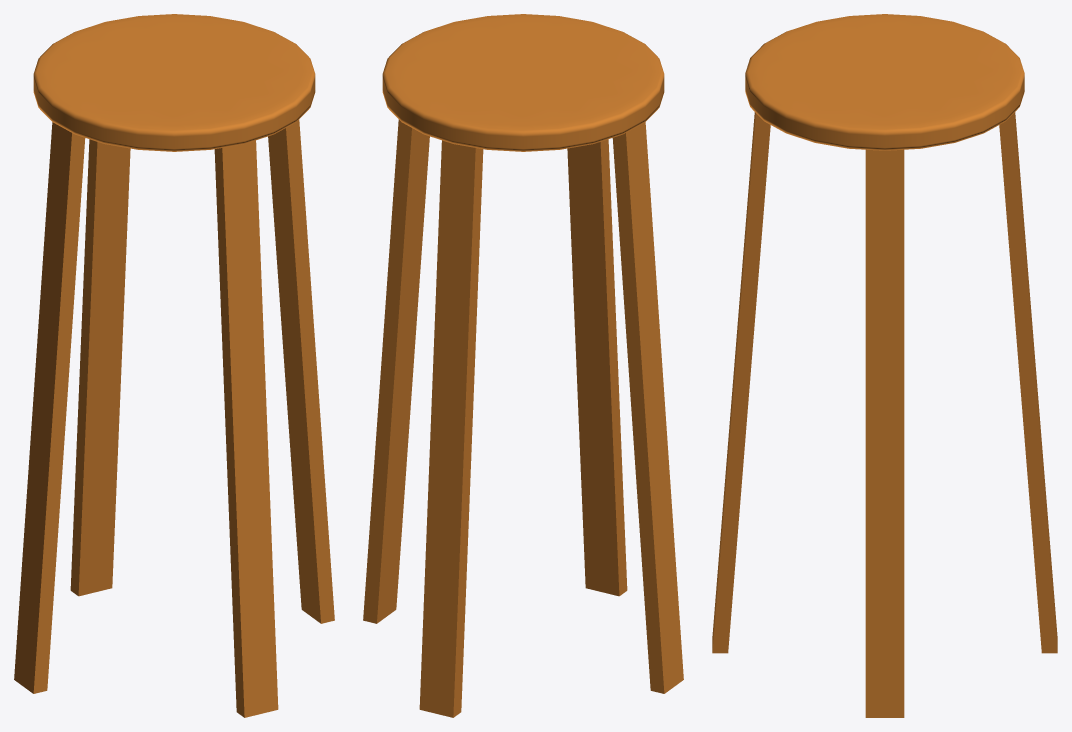
Rendered from frehgstol (1).fbx.
The picture shows the model from 3 angles, left to right: view 1: azimuth 30°, elevation 25°; view 2: azimuth 150°, elevation 25°; view 3: azimuth 270°, elevation 25°; orthographic projection.
Parts seen in each view (by area): view 1: Cube.001, Cube, Cylinder; view 2: Cube.001, Cube, Cylinder; view 3: Cylinder, Cube, Cube.001.
Boxes of the visible parts, box(x1,y1,x2,y2) form: Cube.001: box(70, 139, 278, 717); Cube: box(14, 119, 334, 693); Cylinder: box(33, 14, 315, 151); Cube.001: box(419, 139, 627, 717); Cube: box(363, 119, 683, 693); Cylinder: box(382, 14, 664, 151); Cylinder: box(745, 14, 1024, 150); Cube: box(865, 149, 904, 717); Cube.001: box(712, 112, 1057, 653).
Size of the model in its own units: 296 by 542 by 296.
